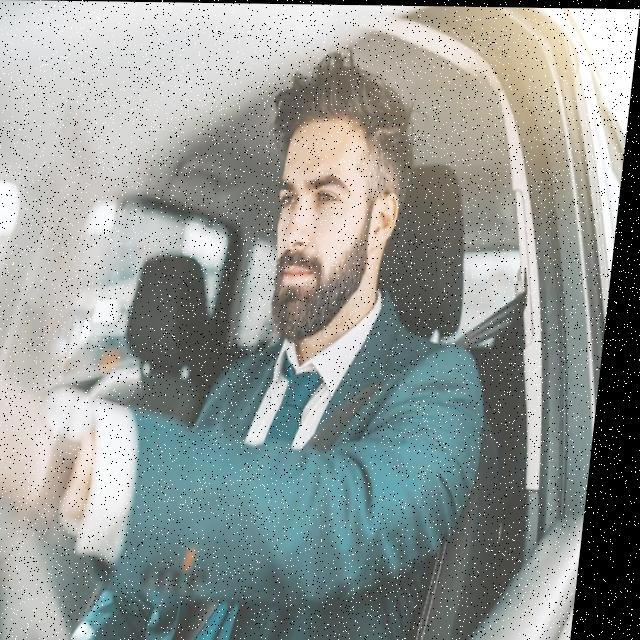seatbelt: (220, 281, 538, 640)
